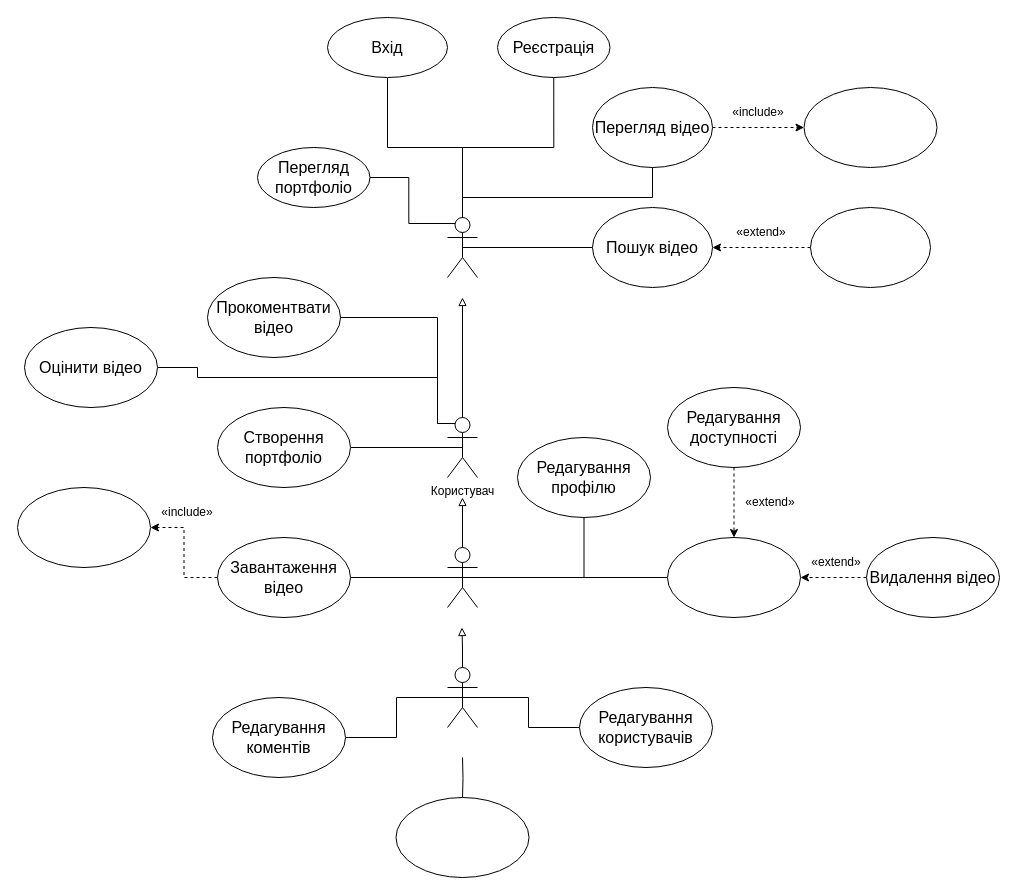
Some shapes in this 1017 by 895 pixel diagram are drawn without their labels. Here are the shapes that lost their labels. From the top down, the centre of each, then its label:
At (870,127): "Налаштування плеєра".
At (462,247): "Гість".
At (870,247): "Фільтрація результату".
At (83,527): "Вибір доступності".
At (462,577): "Фрілансер".
At (733,577): "Редагувати відео".
At (462,697): "Адміністратор".
At (462,837): "Редагування відео".
